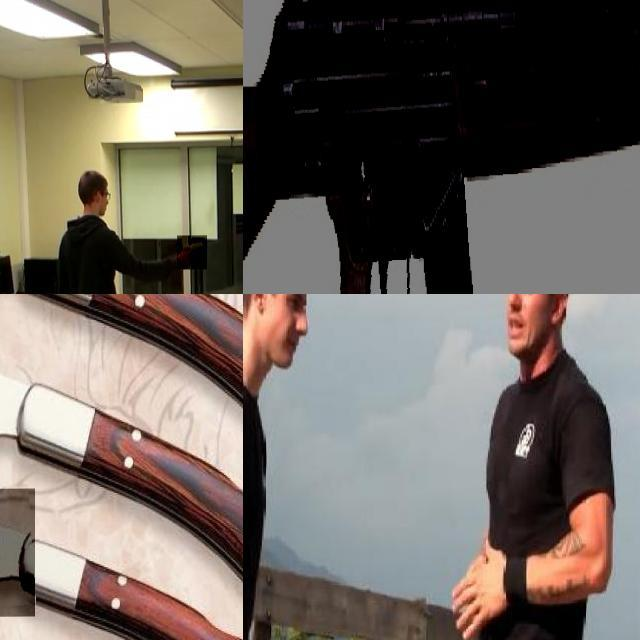-: (0, 320, 128, 454), (0, 489, 111, 618), (0, 294, 133, 360)
gun-knife-thesis - v11 Yolov5 augmented: (243, 0, 640, 294), (177, 236, 207, 270)
